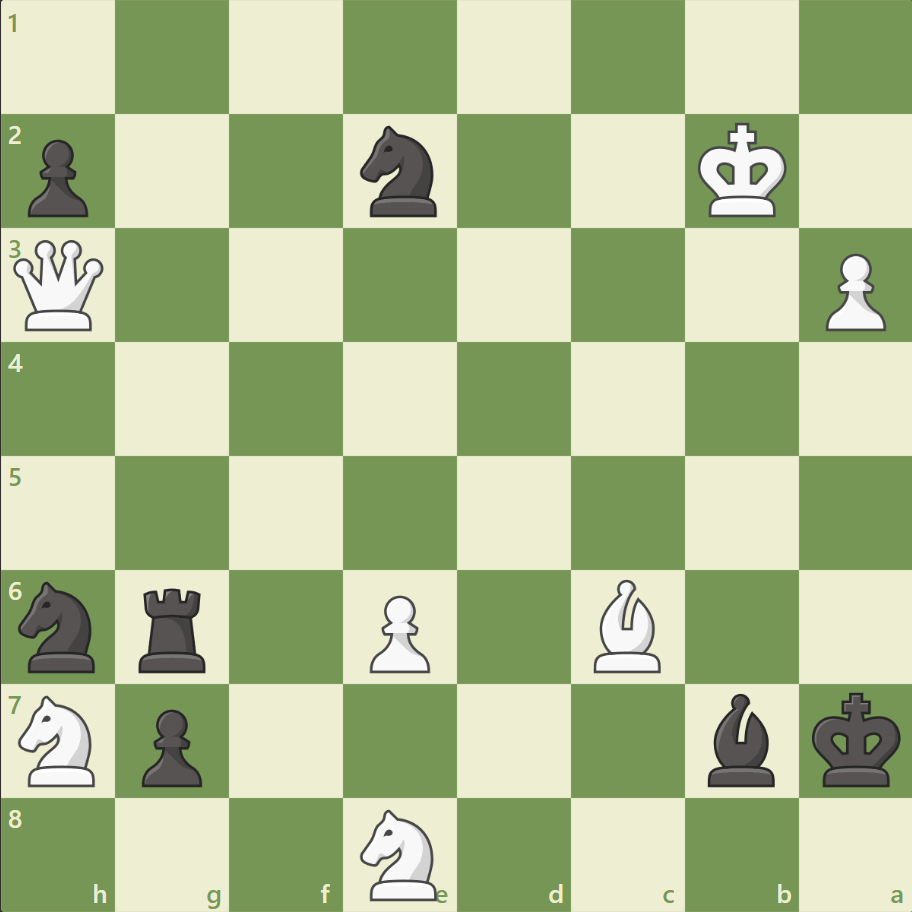B: (585, 574, 669, 676)
K: (692, 117, 792, 225)
N: (351, 802, 449, 904), (11, 688, 108, 791)
P: (361, 586, 435, 677), (815, 246, 889, 337)
Q: (10, 236, 109, 335)
b: (698, 687, 782, 790)
k: (806, 685, 906, 793)
n: (351, 121, 449, 223), (11, 575, 108, 677)
p: (133, 700, 208, 791), (20, 132, 95, 223)
r: (133, 579, 215, 676)
